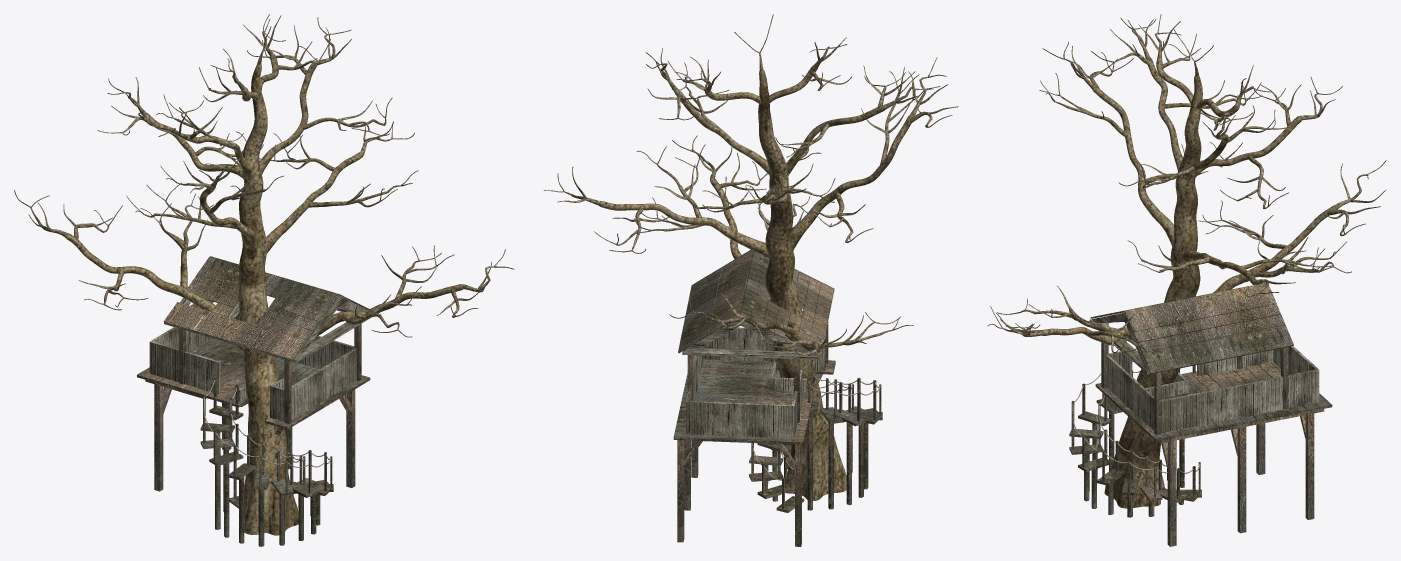
Rendered from thouse(formats).fbx.
The picture shows the model from 3 angles, left to right: view 1: azimuth 30°, elevation 25°; view 2: azimuth 150°, elevation 25°; view 3: azimuth 270°, elevation 25°; orthographic projection.
Visible parts, largest first — view 1: agac, dam, citler, basamaklar, kirisler, direkler, zemin, cati, ustdirekler; view 2: agac, dam, citler, kirisler, basamaklar, direkler, zemin, cati, ustdirekler; view 3: agac, dam, citler, zemin, basamaklar, kirisler, direkler, ustdirekler, cati.
Boxes of the visible parts, x1=… form: agac: x1=14, y1=14, x2=514, y2=535; dam: x1=163, y1=256, x2=369, y2=360; citler: x1=149, y1=314, x2=356, y2=421; basamaklar: x1=200, y1=377, x2=333, y2=508; kirisler: x1=137, y1=338, x2=370, y2=429; direkler: x1=215, y1=416, x2=320, y2=546; zemin: x1=145, y1=380, x2=355, y2=491; cati: x1=164, y1=296, x2=370, y2=362; ustdirekler: x1=178, y1=312, x2=361, y2=423; agac: x1=543, y1=14, x2=958, y2=500; dam: x1=678, y1=250, x2=834, y2=356; citler: x1=686, y1=327, x2=826, y2=438; kirisler: x1=673, y1=355, x2=835, y2=444; basamaklar: x1=749, y1=372, x2=882, y2=512; direkler: x1=765, y1=417, x2=868, y2=510; zemin: x1=677, y1=374, x2=822, y2=546; cati: x1=682, y1=274, x2=819, y2=359; ustdirekler: x1=687, y1=321, x2=828, y2=422; agac: x1=987, y1=14, x2=1386, y2=508; dam: x1=1090, y1=283, x2=1293, y2=374; citler: x1=1106, y1=346, x2=1319, y2=432; zemin: x1=1158, y1=409, x2=1324, y2=546; basamaklar: x1=1069, y1=365, x2=1201, y2=502; kirisler: x1=1095, y1=362, x2=1332, y2=441; direkler: x1=1084, y1=412, x2=1184, y2=517; ustdirekler: x1=1101, y1=323, x2=1287, y2=434; cati: x1=1089, y1=312, x2=1149, y2=373.
Size of the model in its own units: 739 by 987 by 746.
Materials: 10 (10 with a texture image).
